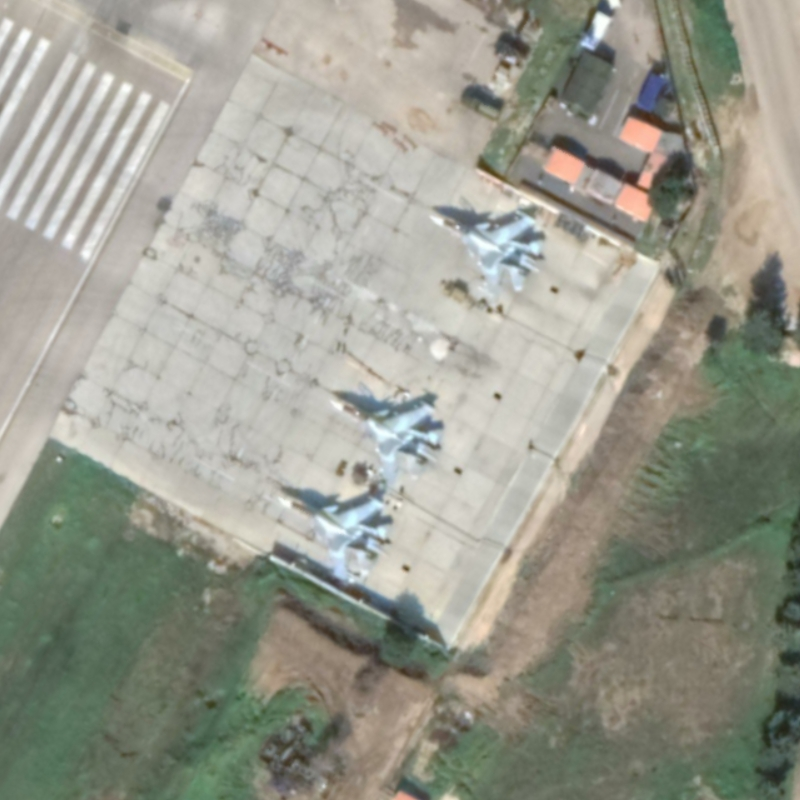A19: (420, 206, 555, 299), (277, 486, 397, 588), (323, 394, 448, 477)
